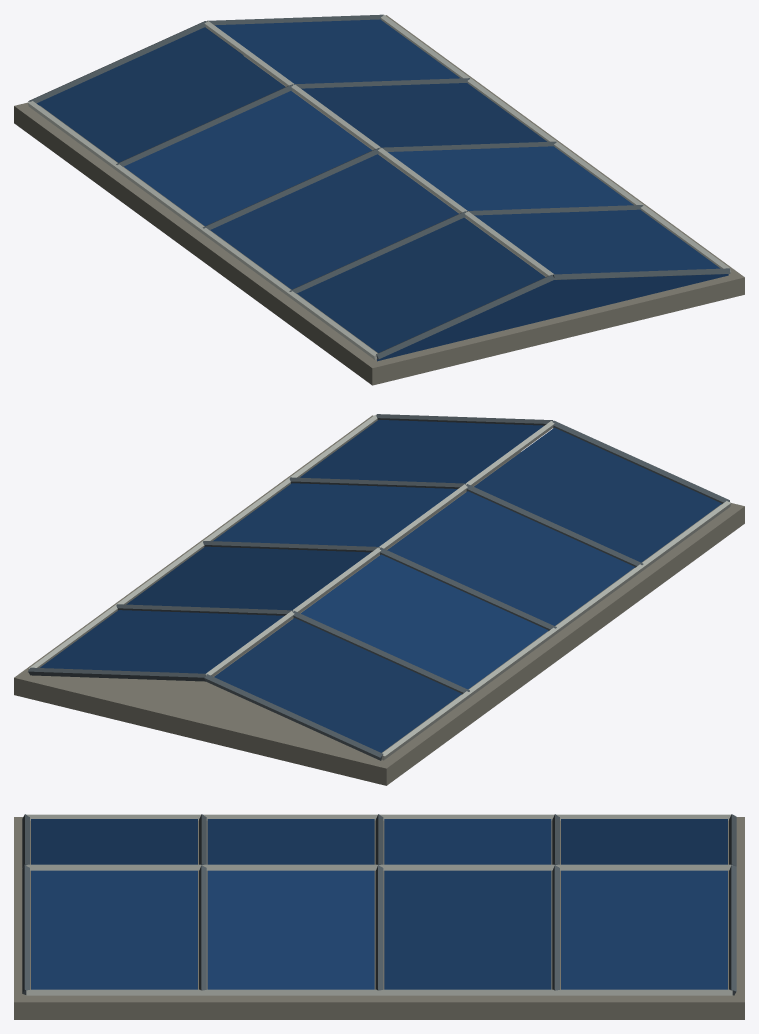
File: glass-roof-wide.glb
3 renders of one model, top to bottom at view 1: azimuth 30°, elevation 25°; view 2: azimuth 150°, elevation 25°; view 3: azimuth 270°, elevation 25°, orthographic.
Visible parts, largest first — view 1: glass-roof-wide; view 2: glass-roof-wide; view 3: glass-roof-wide.
Boxes of the visible parts, bbox=[...] form: glass-roof-wide: bbox=[14, 14, 744, 385]; glass-roof-wide: bbox=[14, 414, 744, 785]; glass-roof-wide: bbox=[14, 814, 744, 1019].
Size of the model in its own units: 36 by 5.71 by 60.
